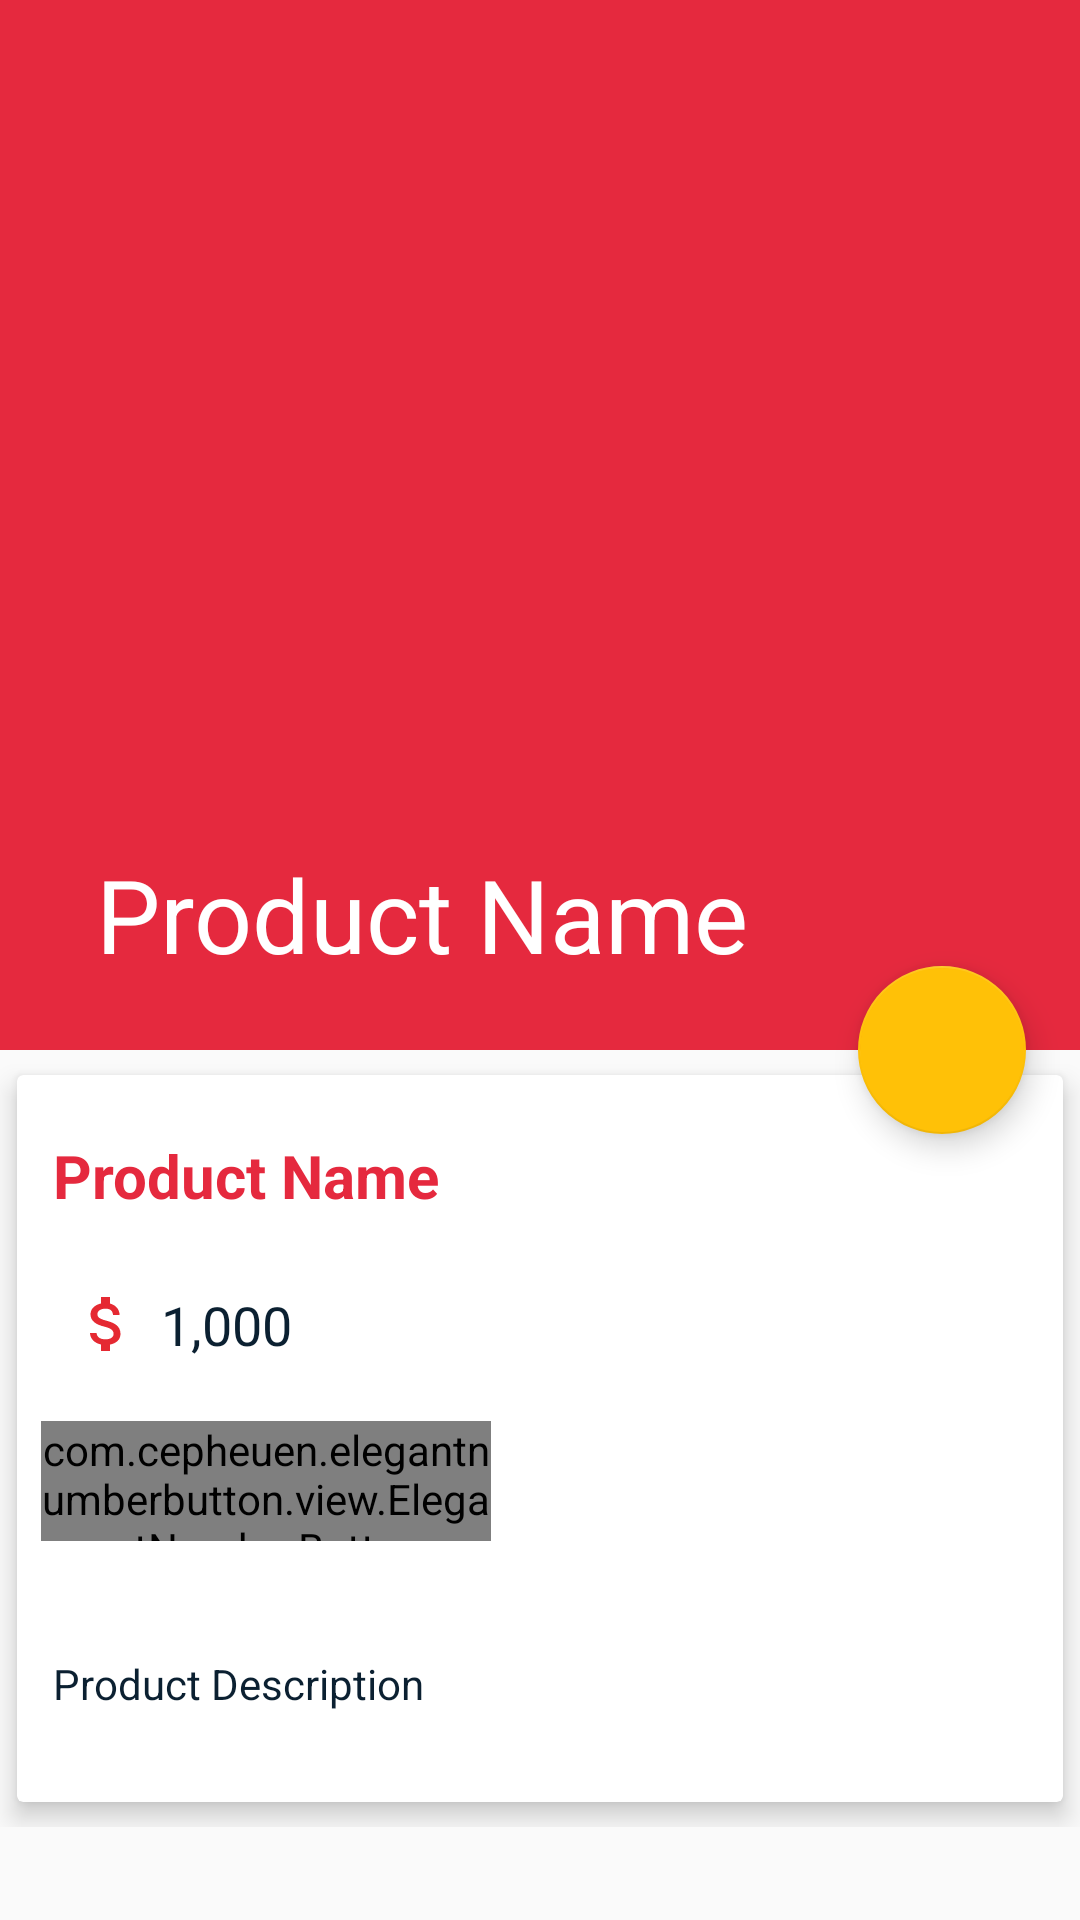

Icon bounding boxes for this 1080 x 1920 phone screenshot, format [x1,y1,x2,y2]:
attach money: [90,1297,121,1351]
